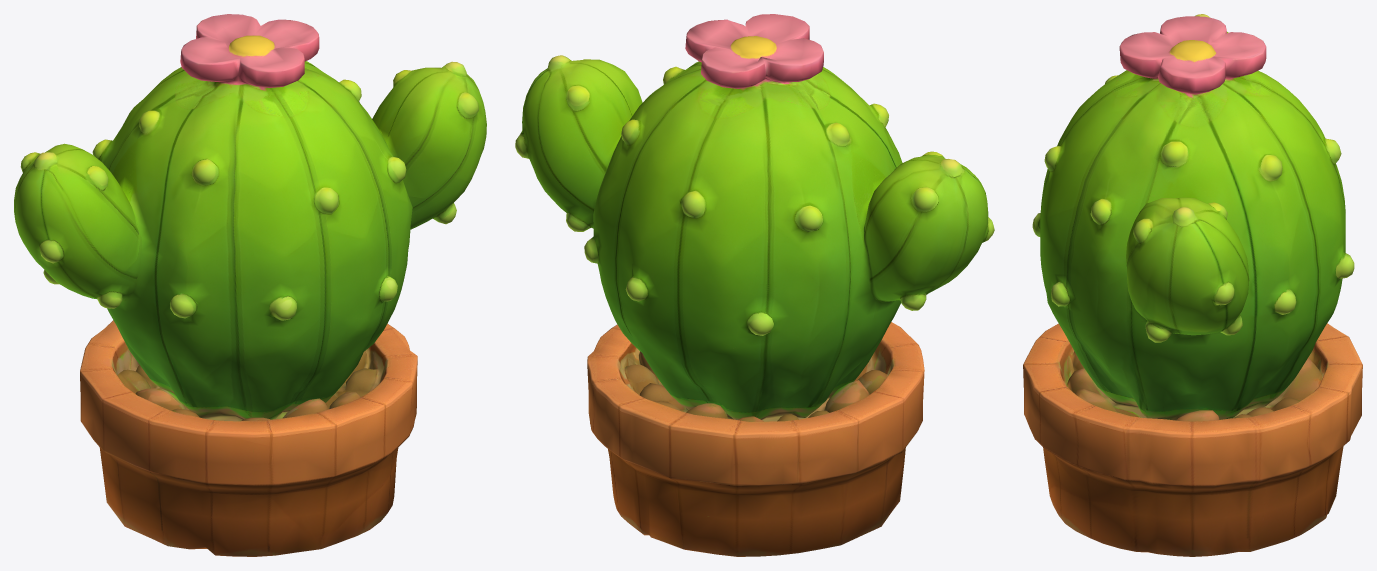
Rendered from cactus.glb.
3 views of the same model, side by side, from view 1: azimuth 30°, elevation 25°; view 2: azimuth 150°, elevation 25°; view 3: azimuth 270°, elevation 25° (orthographic).
Parts seen in each view (by area): view 1: Mesh_0; view 2: Mesh_0; view 3: Mesh_0.
Part boxes in pixels (<box>): Mesh_0: <box>14,14,486,556</box>; Mesh_0: <box>515,14,994,556</box>; Mesh_0: <box>1023,14,1362,556</box>.
Size of the model in its own units: 0.1257 by 0.12 by 0.0818.
1 material, 1 textured.
